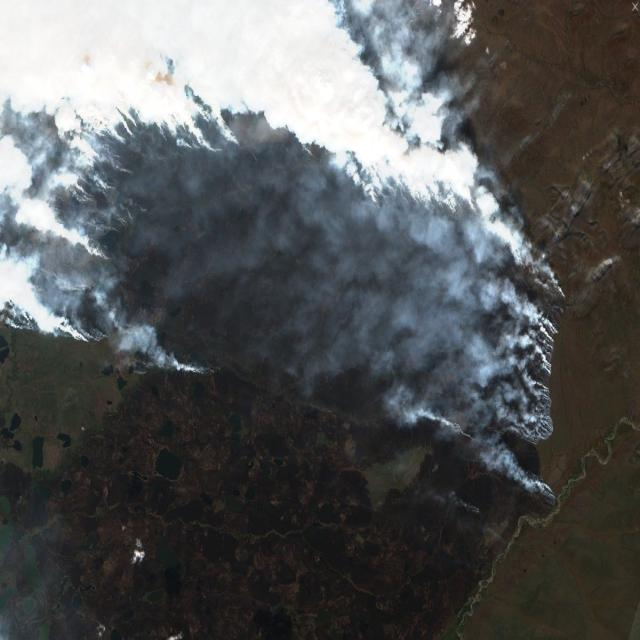fire: (0, 65, 640, 503)
